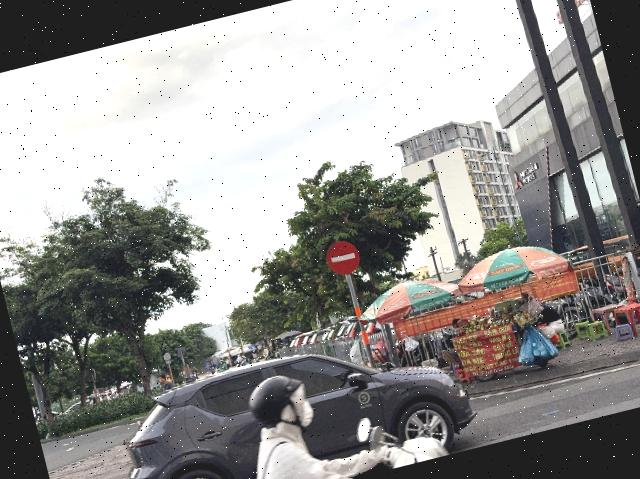cam-di-nguoc-chieu: (323, 238, 362, 278)
